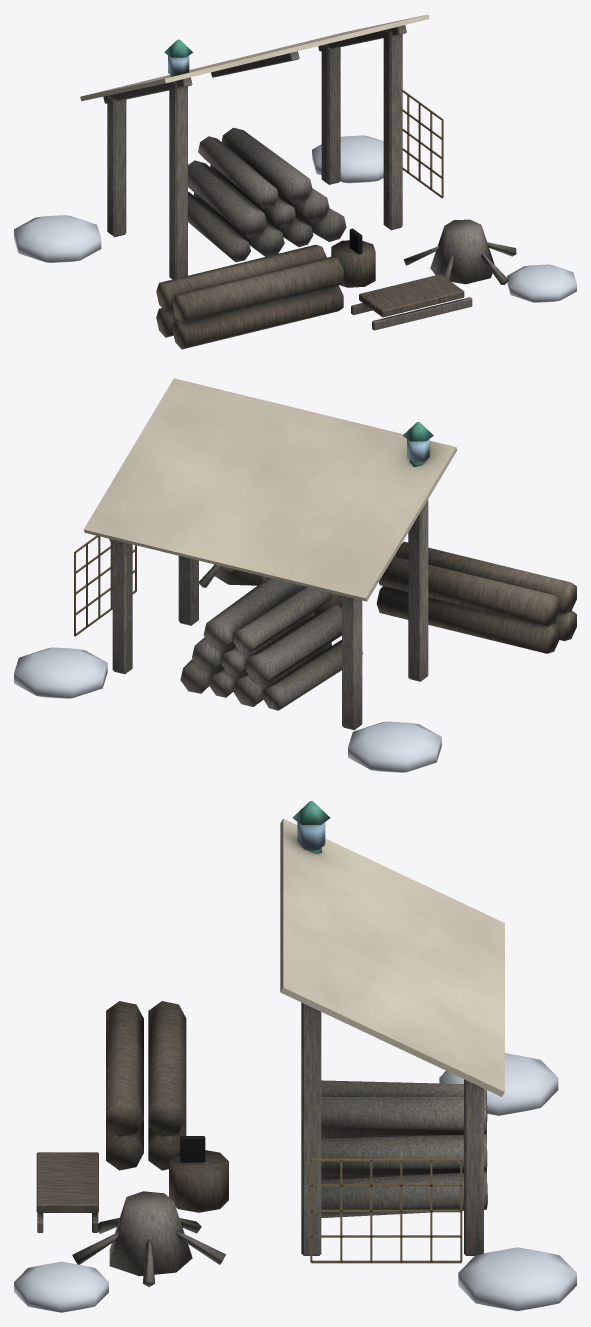
The model's file is salz_lumber.glb.
The picture shows the model from 3 angles, top to bottom: view 1: azimuth 30°, elevation 25°; view 2: azimuth 150°, elevation 25°; view 3: azimuth 270°, elevation 25°; orthographic projection. The views are drawn at different scales.
Parts seen in each view (by area): view 1: salz_lumber, Schnee; view 2: salz_lumber, Schnee; view 3: salz_lumber, Schnee.
Part boxes in pixels (x1,y1,x2,y2): salz_lumber: (80, 14, 516, 349); Schnee: (14, 135, 576, 302); salz_lumber: (74, 378, 576, 730); Schnee: (14, 647, 441, 772); salz_lumber: (36, 801, 504, 1286); Schnee: (14, 1053, 576, 1312).
Bounding box in the file's own units: 4.71 × 2.95 × 4.51.
Materials: 2 (1 with a texture image).
